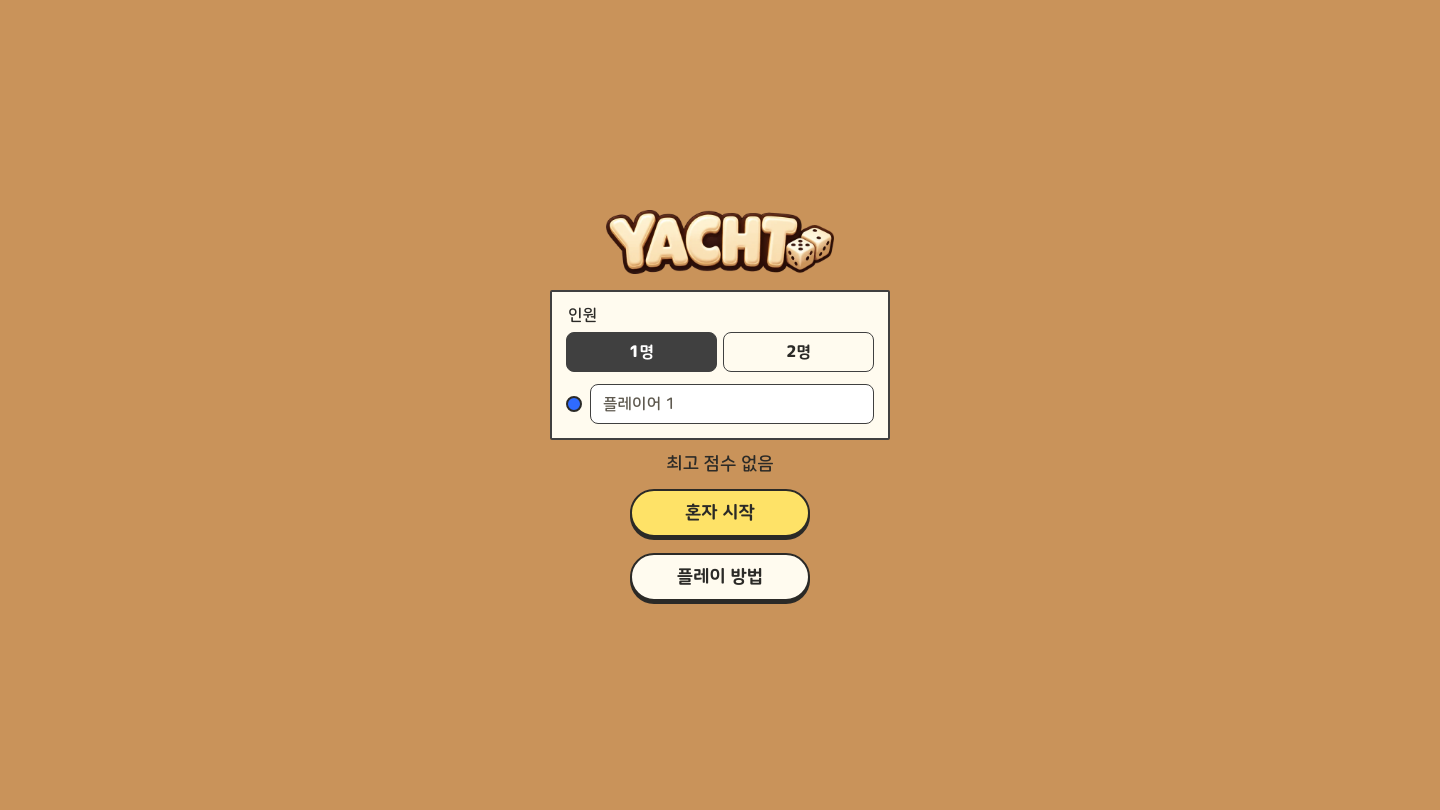
Test case: 시작 화면에서 여는 플레이 방법 › 「플레이 방법」·「족보」·「힌트」 세 탭을 차례로 볼 수 있다
Click the button "플레이 방법" at coordinates (720, 576), box [630,552,810,600]
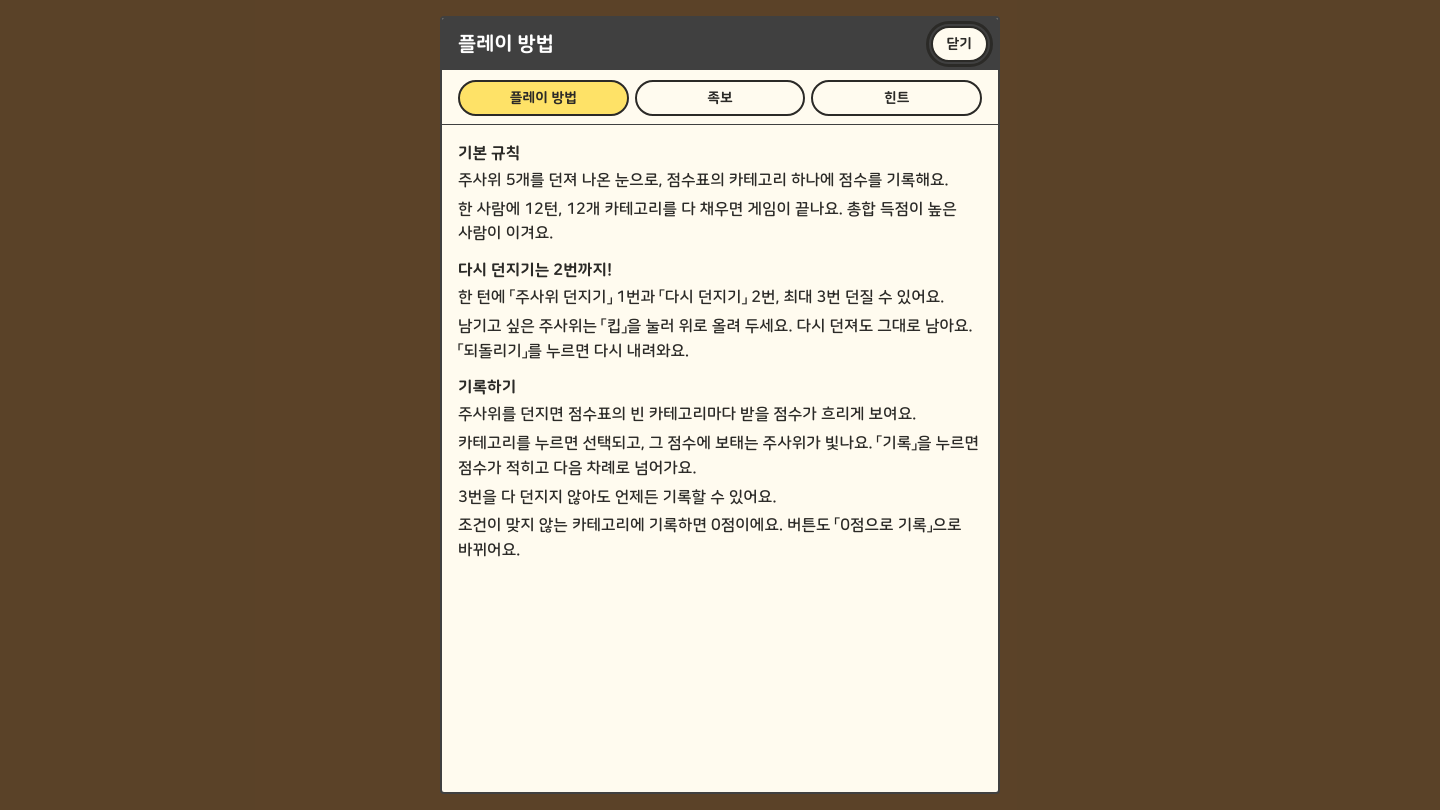
Now the tabs read "플레이 방법", "족보", "힌트", in this order
Now the panel shows "다시 던지기는 2번까지!", box [458,261,612,279]
Click the tab "족보" at coordinates (720, 98), box [635,80,805,116]
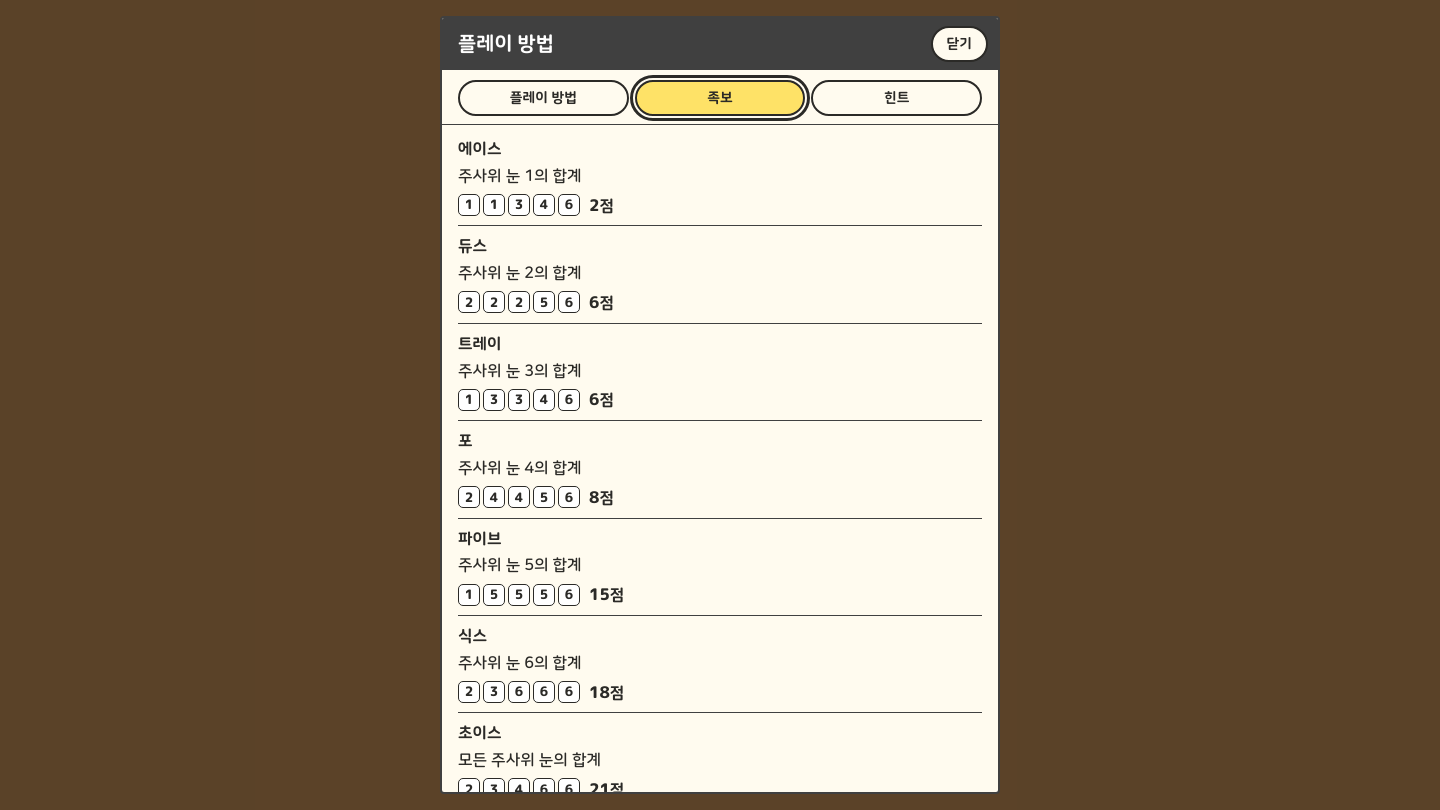
Now the panel shows "주사위 눈 1의 합계", box [458,167,582,185]
Click the tab "힌트" at coordinates (897, 98), box [811,80,982,116]
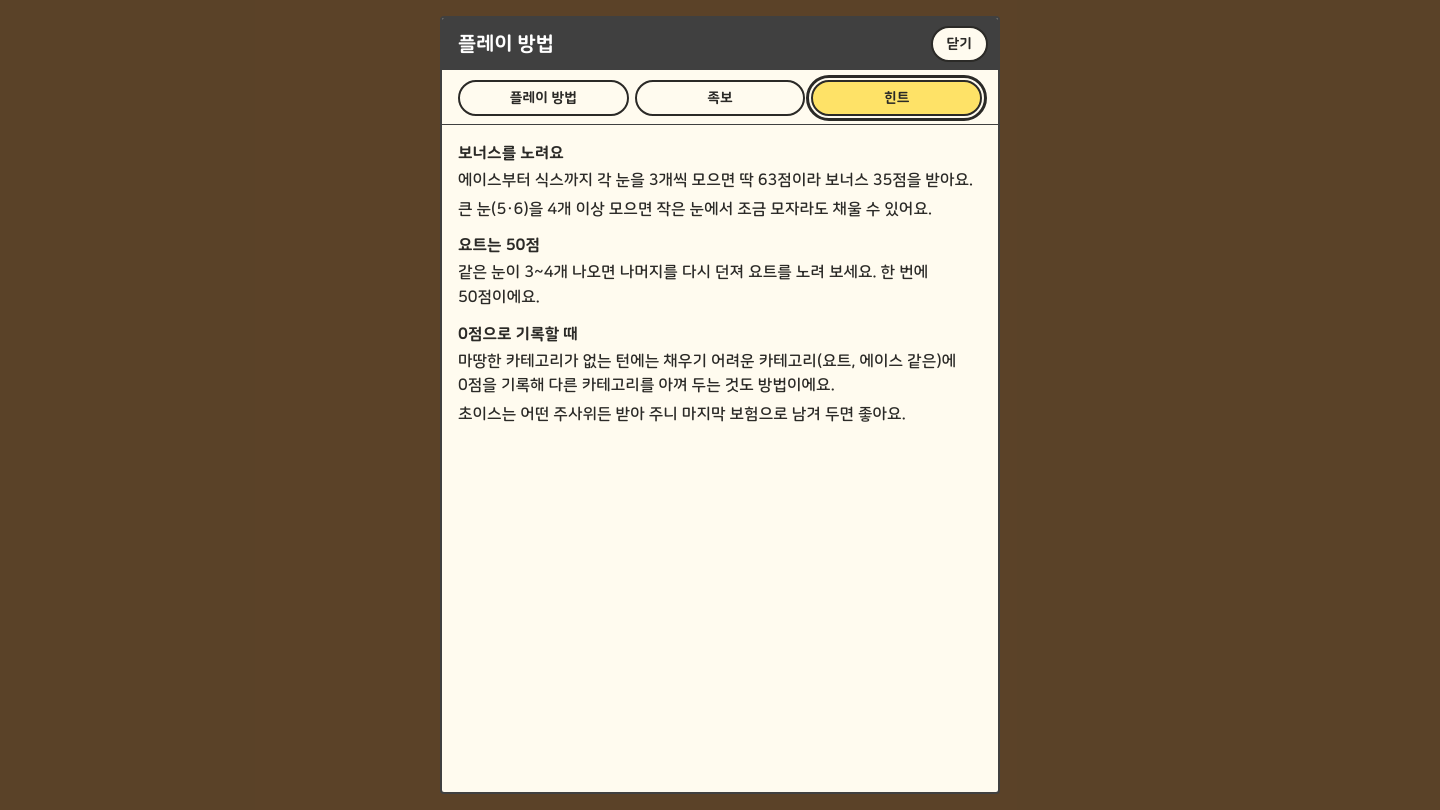
Now the panel shows "63", box [458,144,973,423]
